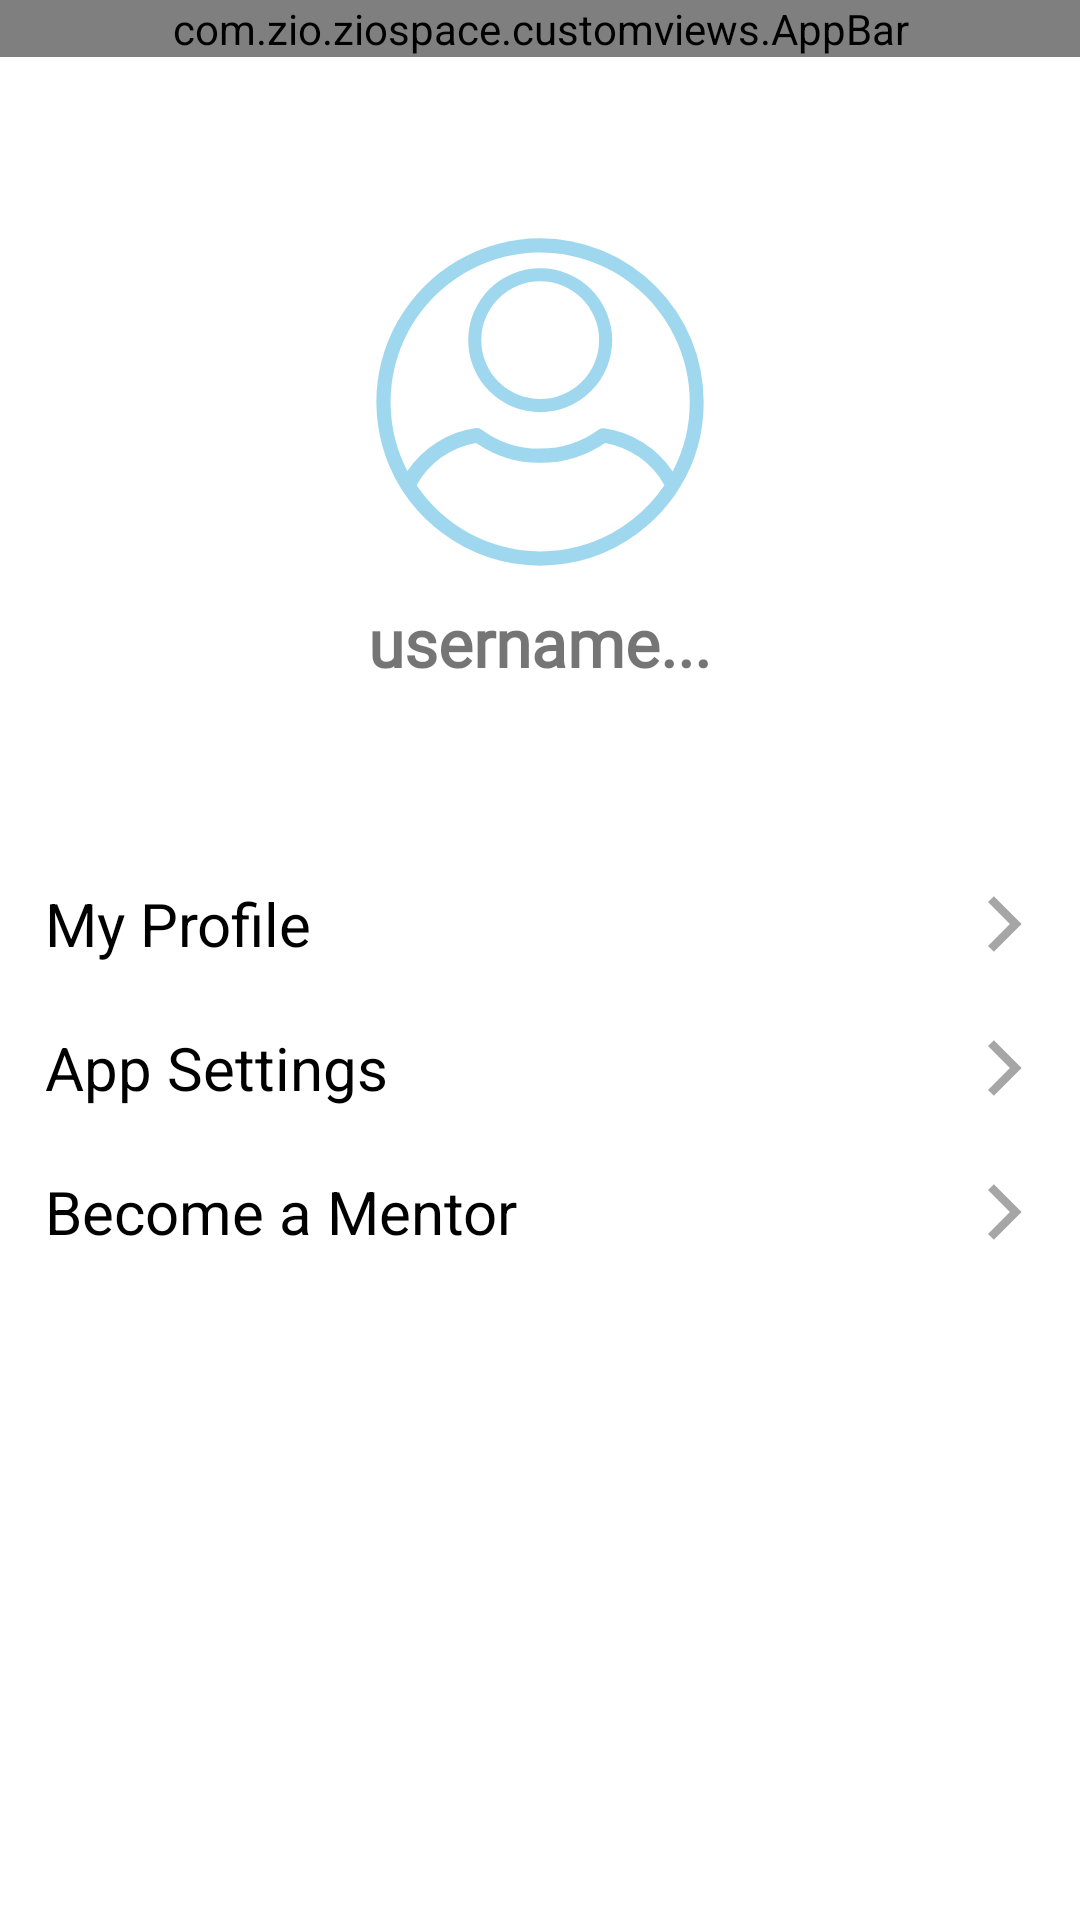

Screen size 1080px x 1920px. Icon name, then its box in pixels as (x1, y1, x2, y2):
profile: (376, 238, 704, 566)
